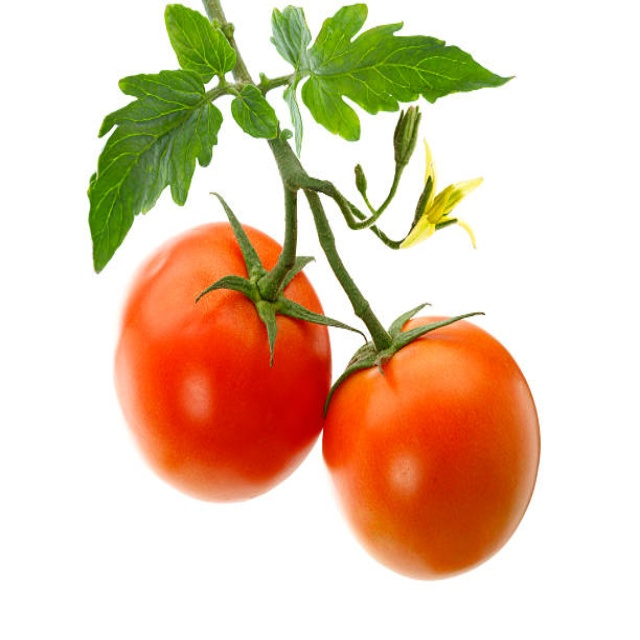tomato: (325, 314, 545, 585), (125, 228, 335, 504)
